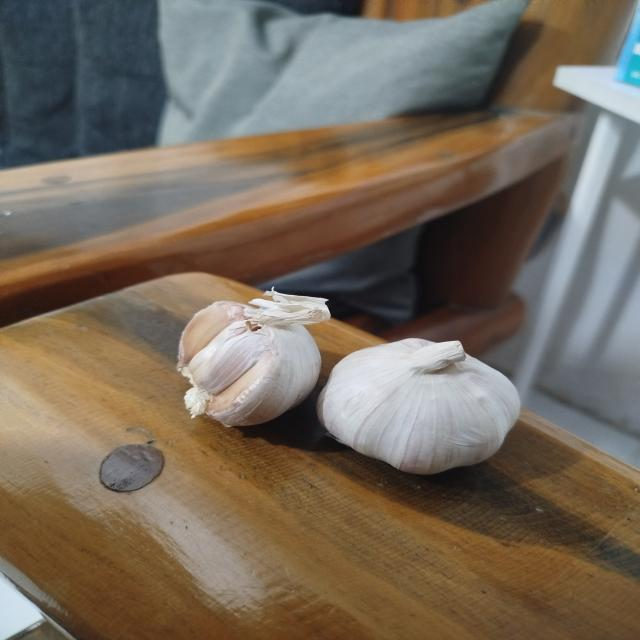garlic: (316, 337, 521, 475), (176, 286, 331, 428)
